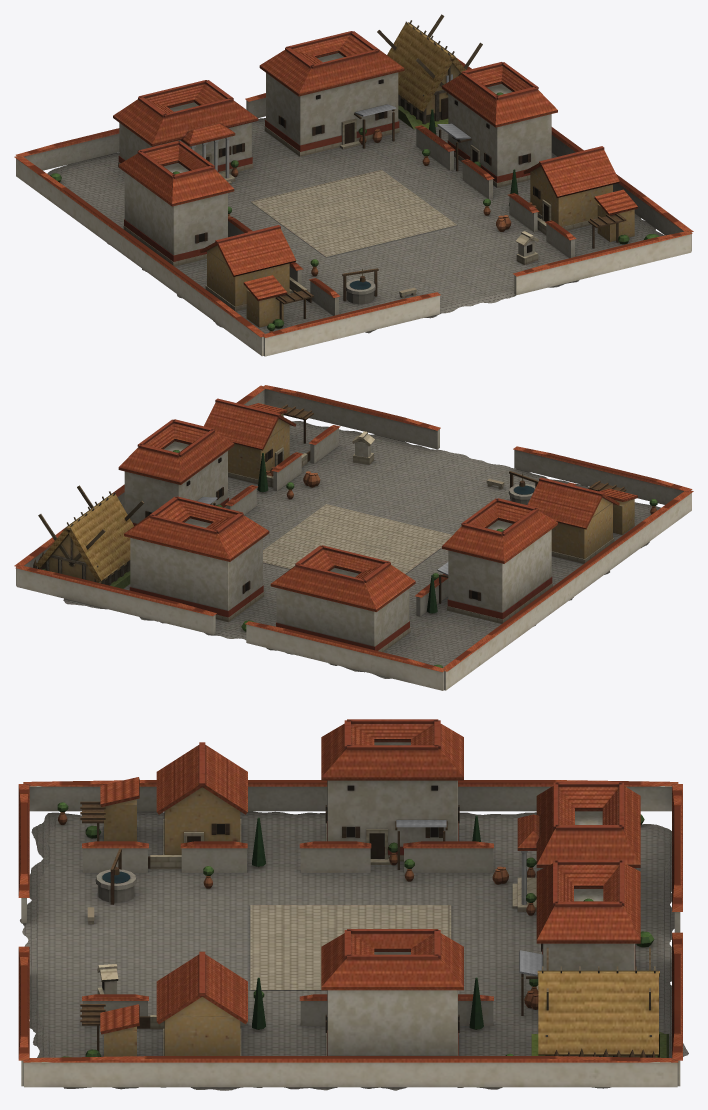
Rendered from classical-town-small-b-europenorth.glb.
The picture shows the model from 3 angles, top to bottom: view 1: azimuth 30°, elevation 25°; view 2: azimuth 150°, elevation 25°; view 3: azimuth 270°, elevation 25°; orthographic projection. The views are drawn at different scales.
Visible parts, largest first — view 1: LOD0; view 2: LOD0; view 3: LOD0.
Part boxes in pixels (x1=…): LOD0: x1=14, y1=14, x2=693, y2=356; LOD0: x1=14, y1=385, x2=693, y2=690; LOD0: x1=18, y1=719, x2=688, y2=1090.
Size of what is drawn, in the model's own units: 4.02 by 0.755 by 4.06.
Materials: 3 (3 with a texture image).
